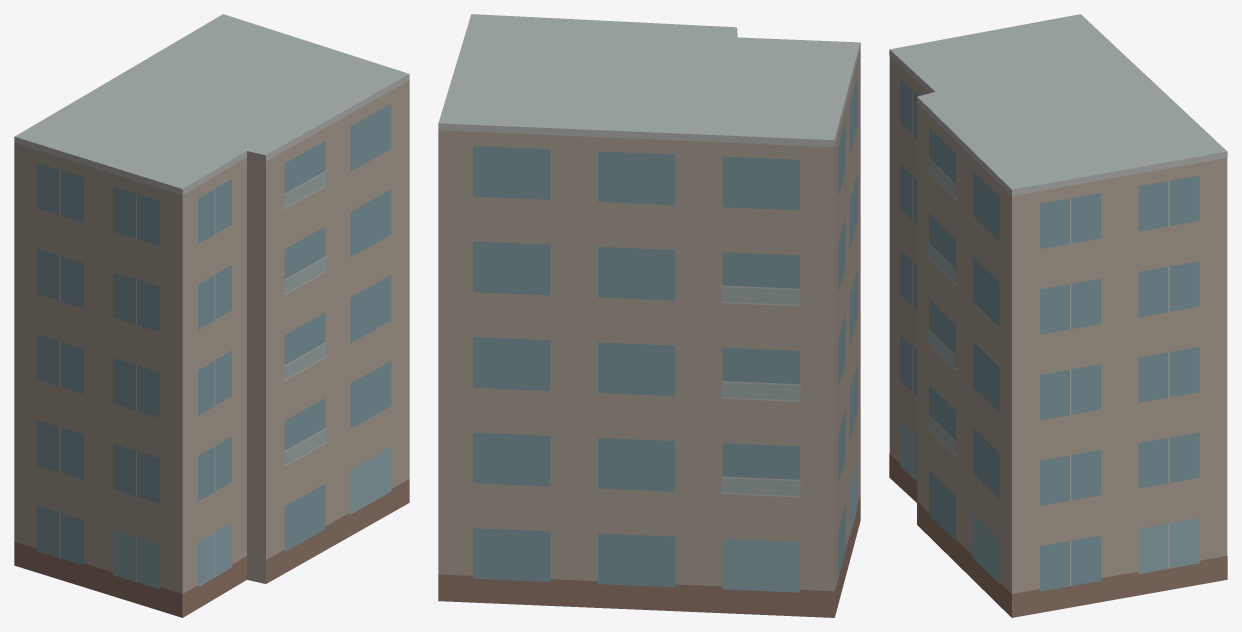
Rendered from survey-upis-32848834.glb.
3 views of the same model, side by side, from view 1: azimuth 30°, elevation 25°; view 2: azimuth 150°, elevation 25°; view 3: azimuth 270°, elevation 25° (orthographic). The views are drawn at different scales.
Parts seen in each view (by area): view 1: survey-upis-32848834.tmp; view 2: survey-upis-32848834.tmp; view 3: survey-upis-32848834.tmp.
Part boxes in pixels (x1,y1,x2,y2): survey-upis-32848834.tmp: (14, 14, 409, 617); survey-upis-32848834.tmp: (438, 14, 860, 617); survey-upis-32848834.tmp: (889, 14, 1227, 617).
Size of the model in its own units: 14.6 by 16.58 by 11.87.
